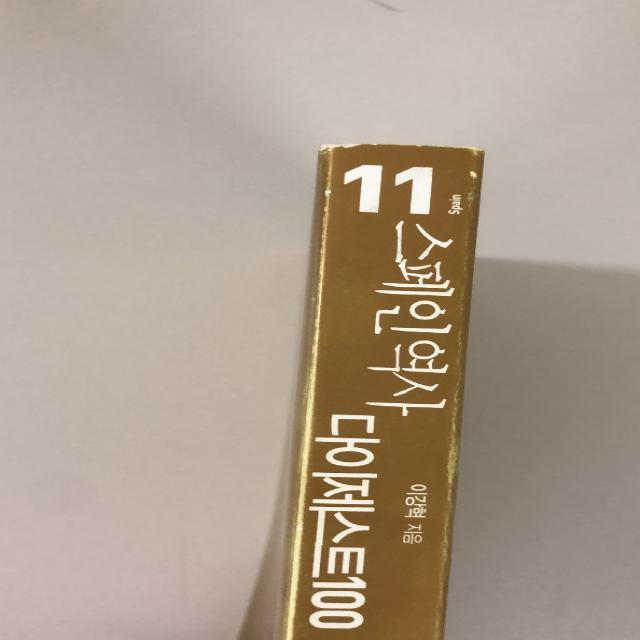Wornout: (401, 142, 497, 159), (458, 168, 489, 210), (315, 138, 391, 155), (313, 176, 344, 216)
